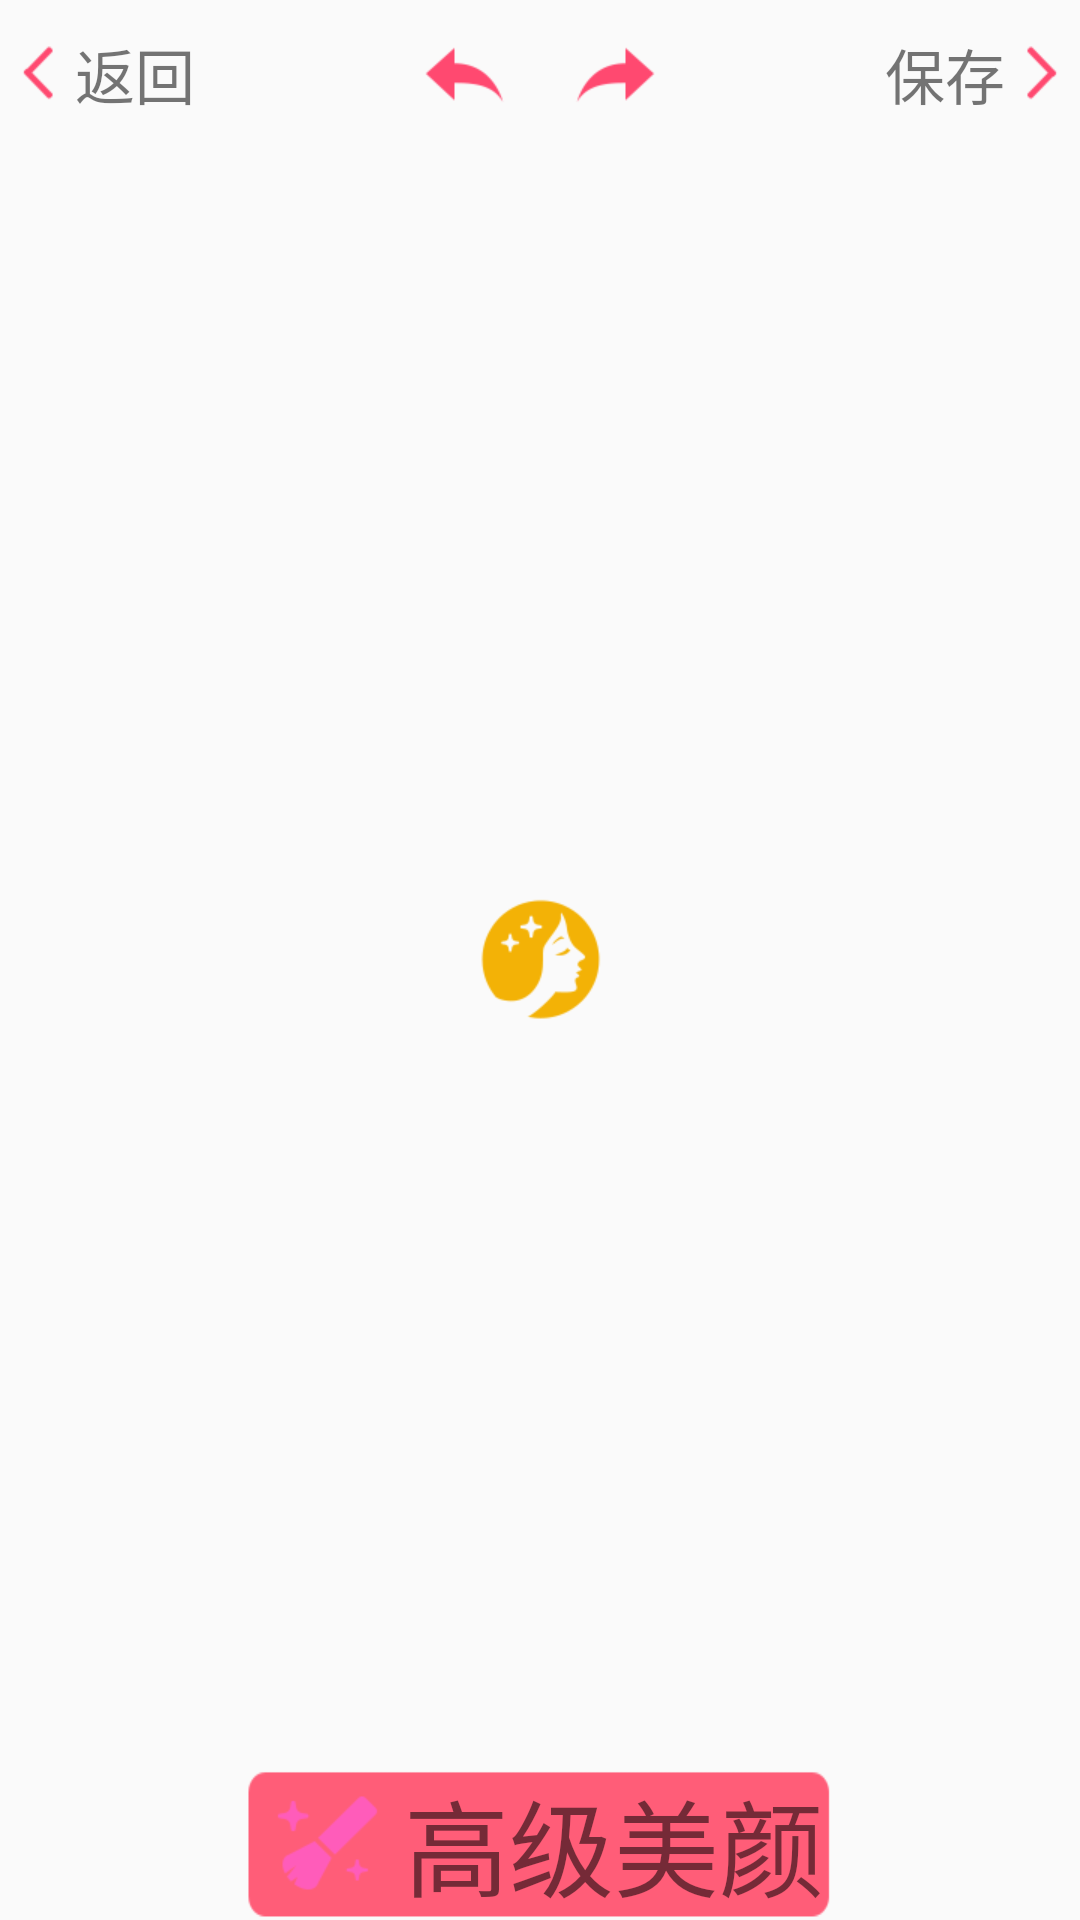

Icons on this 1080w x 1920h Android screen, each with the point to tap as point (x, y):
beauty top option redo: point (615, 74)
beauty top option undo: point (464, 74)
